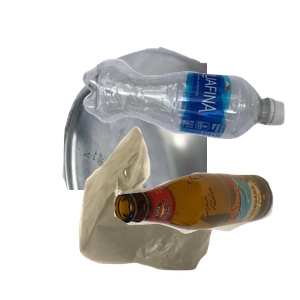glass: (111, 170, 300, 300)
metal: (60, 44, 300, 224)
plastic: (80, 56, 300, 187)
trash: (76, 124, 287, 300)
